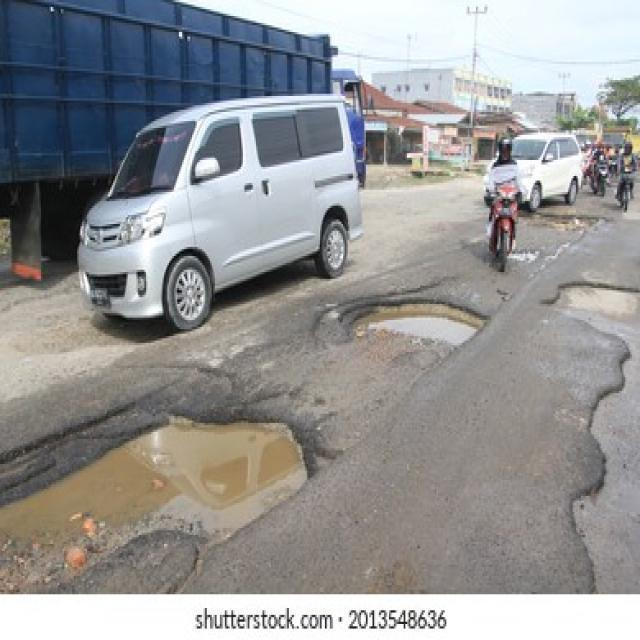Buraco: (0, 362, 347, 594), (536, 278, 640, 593), (306, 272, 512, 370), (518, 211, 613, 236), (506, 247, 546, 267)
